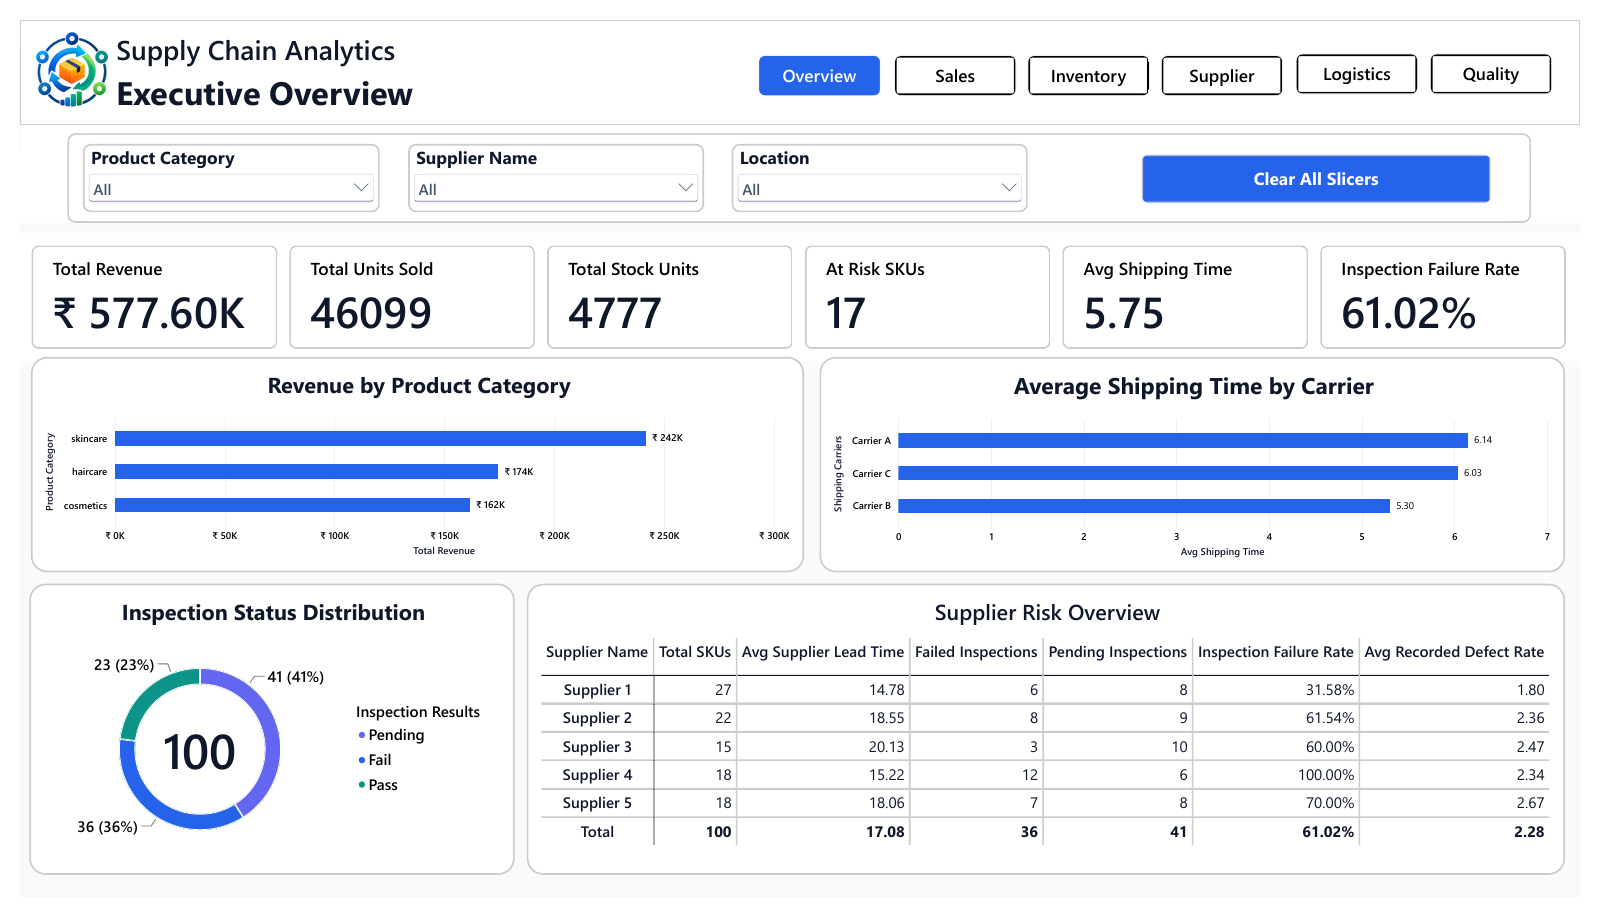

What the dashboard file says about the page in this screenshot:
{"tool":"powerbi","page":{"name":"Executive Overview","canvas":[1920,1080],"ordinal":0},"visuals":[{"type":"shape","box":[59.3,139.5,1800,110],"z":0,"group":"g1"},{"type":"shape","box":[0,0,1920.4,130],"z":1000,"group":"g1"},{"type":"image","box":[10.7,7.3,107.7,110.8],"z":2000,"group":"g1"},{"type":"cardVisual","fields":{"Data":["SupplyChain.Total Revenue","SupplyChain.Total Units Sold","SupplyChain.Total Stock Units","SupplyChain.At Risk SKUs","SupplyChain.Avg Shipping Time","SupplyChain.Inspection Failure Rate"]},"box":[0,263.4,1920.4,157],"z":2000},{"type":"textbox","title":"Supply Chain Analytics","box":[118.7,14,350.6,48.8],"z":3000,"group":"g1"},{"type":"clusteredBarChart","title":"Revenue by Product Category","fields":{"Category":["SupplyChain.Product Category"],"Y":["SupplyChain.Total Revenue"]},"box":[14,415.1,950.6,265.1],"z":3000},{"type":"textbox","title":"Executive Overview","box":[118.7,62.7,371.5,54.1],"z":4000,"group":"g1"},{"type":"clusteredBarChart","title":"Average Shipping Time by Carrier","fields":{"Category":["SupplyChain.Shipping Carriers"],"Y":["SupplyChain.Avg Shipping Time"]},"box":[983.7,415.1,917.4,265.1],"z":4000},{"type":"actionButton","box":[1076.2,43.6,150,50],"z":5000,"group":"g1"},{"type":"donutChart","title":"Inspection Status Distribution","fields":{"Category":["SupplyChain.Inspection Results"],"Y":["SupplyChain.Total SKUs"]},"box":[12.2,694.2,596.5,357.6],"z":5000},{"type":"actionButton","box":[1240.1,43.6,150,50],"z":6000,"group":"g1"},{"type":"pivotTable","title":"Supplier Risk Overview","fields":{"Rows":["SupplyChain.Supplier Name"],"Values":["SupplyChain.Total SKUs","SupplyChain.Avg Supplier Lead Time","SupplyChain.Failed Inspections","SupplyChain.Pending Inspections","SupplyChain.Inspection Failure Rate","SupplyChain.Avg Recorded Defect Rate"]},"box":[624.4,694.2,1276.7,357.6],"z":6000},{"type":"actionButton","box":[1404.1,43.6,150,50],"z":7000,"group":"g1"},{"type":"actionButton","box":[908.7,43.6,150,50],"z":8000,"group":"g1"},{"type":"actionButton","box":[1569.8,41.9,150,50],"z":9000,"group":"g1"},{"type":"actionButton","box":[1735.5,41.9,150,50],"z":10000,"group":"g1"},{"type":"slicer","fields":{"Values":["SupplyChain.Product Category"]},"box":[78.5,153.5,364.5,83.7],"z":11000,"group":"g1"},{"type":"slicer","fields":{"Values":["SupplyChain.Supplier Name"]},"box":[477.9,153.5,364.5,83.7],"z":12000,"group":"g1"},{"type":"slicer","fields":{"Values":["SupplyChain.Location"]},"box":[875.6,153.5,364.5,83.7],"z":13000,"group":"g1"},{"type":"actionButton","box":[1379.7,165.7,430.8,60],"z":14000,"group":"g1"},{"type":"group","id":"g1","title":"Group 1","box":[0,0,1920.4,249.5],"z":18002}]}

Visuals, with their boxes in screenshot pixels (x1, y1, x2, y2), scaled from the page's 1920x1080 canvas onto the 1600x918 screenshot:
shape: <bbox>49, 119, 1549, 212</bbox>
shape: <bbox>0, 0, 1599, 110</bbox>
image: <bbox>9, 6, 99, 100</bbox>
cardVisual - SupplyChain.Total Revenue x SupplyChain.Total Units Sold: <bbox>0, 224, 1599, 357</bbox>
"Supply Chain Analytics" textbox: <bbox>99, 12, 391, 53</bbox>
"Revenue by Product Category" clusteredBarChart: <bbox>12, 353, 804, 578</bbox>
"Executive Overview" textbox: <bbox>99, 53, 408, 99</bbox>
"Average Shipping Time by Carrier" clusteredBarChart: <bbox>820, 353, 1584, 578</bbox>
actionButton: <bbox>897, 37, 1022, 80</bbox>
"Inspection Status Distribution" donutChart: <bbox>10, 590, 507, 894</bbox>
actionButton: <bbox>1033, 37, 1158, 80</bbox>
"Supplier Risk Overview" pivotTable: <bbox>520, 590, 1584, 894</bbox>
actionButton: <bbox>1170, 37, 1295, 80</bbox>
actionButton: <bbox>757, 37, 882, 80</bbox>
actionButton: <bbox>1308, 36, 1433, 78</bbox>
actionButton: <bbox>1446, 36, 1571, 78</bbox>
slicer - SupplyChain.Product Category: <bbox>65, 130, 369, 202</bbox>
slicer - SupplyChain.Supplier Name: <bbox>398, 130, 702, 202</bbox>
slicer - SupplyChain.Location: <bbox>730, 130, 1033, 202</bbox>
actionButton: <bbox>1150, 141, 1509, 192</bbox>
"Group 1" group: <bbox>0, 0, 1599, 212</bbox>
